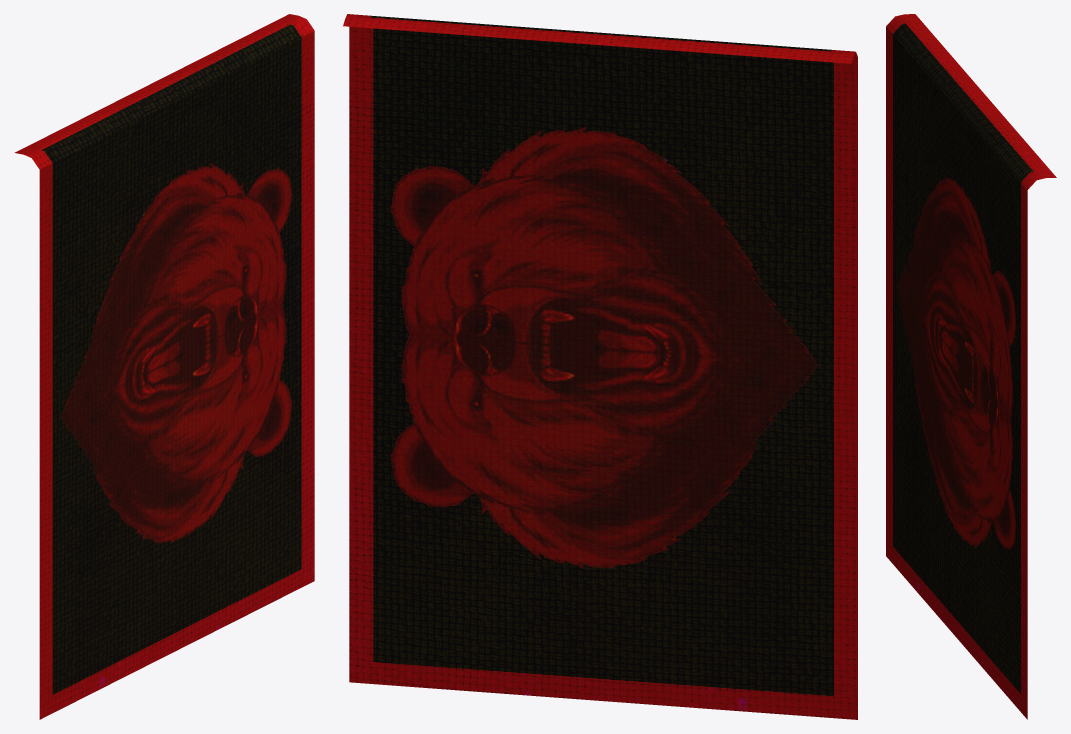
The model's file is Bandera lateral.FBX.
3 views of the same model, side by side, from view 1: azimuth 30°, elevation 25°; view 2: azimuth 150°, elevation 25°; view 3: azimuth 270°, elevation 25° (orthographic). The views are drawn at different scales.
Visible parts, largest first — view 1: Plane001; view 2: Plane001; view 3: Plane001.
Boxes of the visible parts, left/top/right/bottom form: Plane001: left=14, top=14, right=314, bottom=719; Plane001: left=343, top=14, right=857, bottom=719; Plane001: left=886, top=14, right=1056, bottom=719.
Bounding box in the file's own units: 324 × 483 × 139.
1 material, 1 textured.
